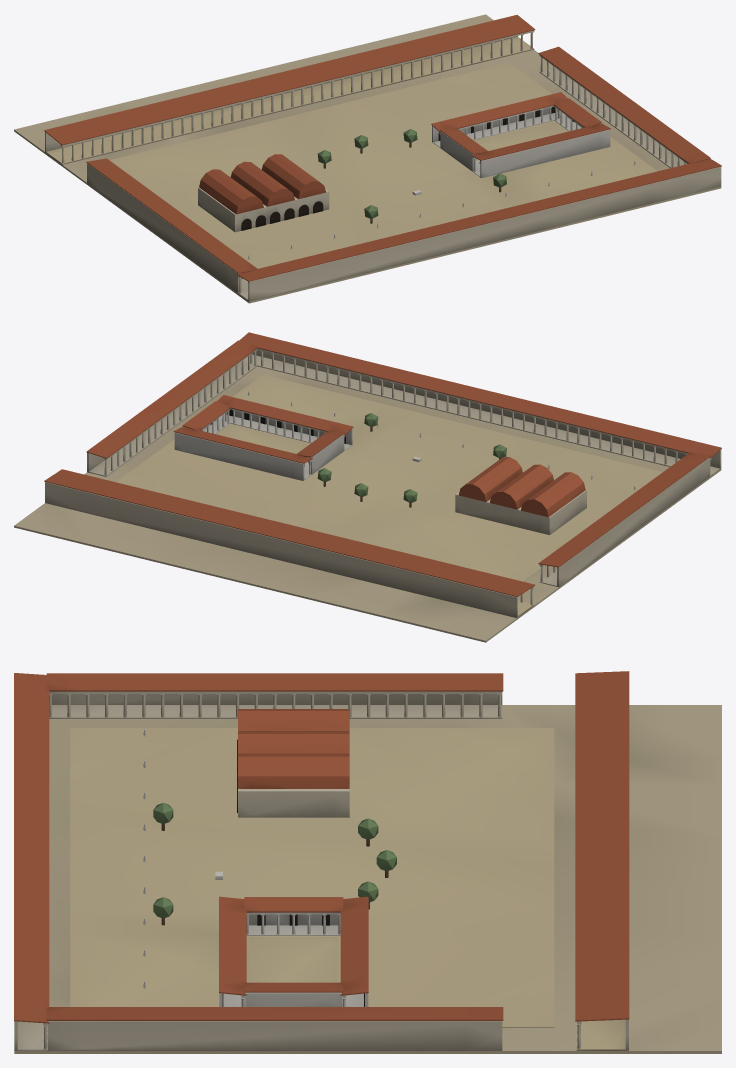
File: gymnasium.glb
3 views of the same model, one above another, from view 1: azimuth 30°, elevation 25°; view 2: azimuth 150°, elevation 25°; view 3: azimuth 270°, elevation 25° (orthographic). The views are drawn at different scales.
Parts seen in each view (by area): view 1: p0_grounds, p1_porticoes, p2_palaestra, p3_statues; view 2: p0_grounds, p1_porticoes, p2_palaestra, p3_statues; view 3: p0_grounds, p1_porticoes, p2_palaestra, p3_statues.
Part boxes in pixels (x1,y1,x2,y2): p0_grounds: (14, 14, 721, 303); p1_porticoes: (44, 14, 721, 301); p2_palaestra: (198, 92, 610, 232); p3_statues: (248, 129, 635, 259); p0_grounds: (14, 366, 721, 642); p1_porticoes: (44, 332, 721, 617); p2_palaestra: (173, 395, 586, 534); p3_statues: (247, 391, 636, 507); p0_grounds: (14, 705, 721, 1053); p1_porticoes: (14, 671, 629, 1050); p2_palaestra: (219, 709, 368, 1006); p3_statues: (143, 729, 396, 988).
Bounding box in the file's own units: 221 × 15.3 × 190.
